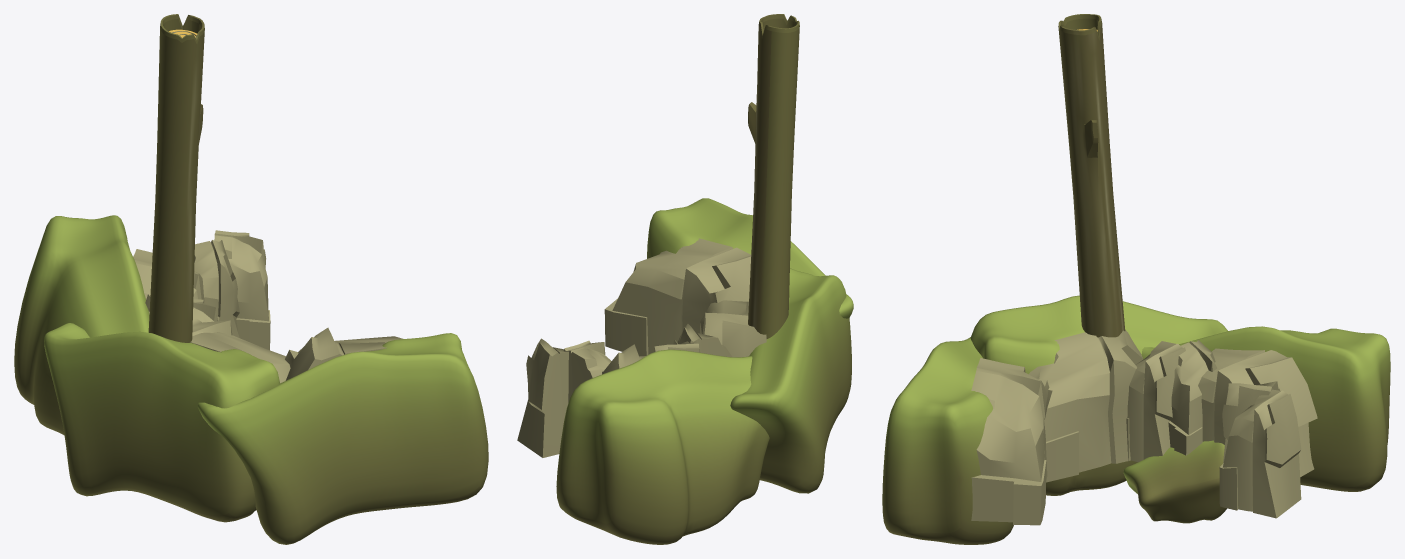
File: MountainSurroundings.glb
3 renders of one model, left to right at view 1: azimuth 30°, elevation 25°; view 2: azimuth 150°, elevation 25°; view 3: azimuth 270°, elevation 25°, orthographic. The views are drawn at different scales.
Visible parts, largest first — view 1: Cube.011, Cube.006, Cube.008, log, Cube.002, Cube.001, Cube.010, Cube.003, Cube.007; view 2: Cube.008, Cube.006, log, Cube.010, Cube.011, Cube.002, Cube.003, Cube.001, Cube.004, Cube.007; view 3: Cube.011, Cube.008, log, Cube.003, Cube.010, Cube.006, Cube.002, Cube.009, Cube.007, Cube.004, Cube.005, Cube.001.
Part boxes in pixels (x1,y1,x2,y2): Cube.011: (197, 333, 488, 544); Cube.006: (44, 323, 279, 522); Cube.008: (14, 215, 149, 434); log: (148, 14, 204, 342); Cube.002: (214, 230, 270, 350); Cube.001: (194, 240, 239, 337); Cube.010: (285, 327, 402, 380); Cube.003: (190, 318, 290, 383); Cube.007: (133, 249, 204, 313); Cube.008: (556, 349, 769, 544); Cube.006: (730, 268, 851, 493); log: (748, 14, 799, 338); Cube.010: (604, 238, 751, 356); Cube.011: (647, 198, 853, 318); Cube.002: (517, 338, 568, 457); Cube.003: (699, 300, 766, 357); Cube.001: (563, 340, 611, 402); Cube.004: (673, 324, 732, 357); Cube.007: (602, 344, 645, 374); Cube.011: (882, 337, 1013, 544); Cube.008: (1141, 326, 1390, 491); log: (1058, 14, 1125, 337); Cube.003: (1029, 330, 1143, 482); Cube.010: (971, 358, 1049, 525); Cube.006: (970, 295, 1227, 495); Cube.002: (1219, 389, 1301, 518); Cube.009: (1123, 440, 1226, 523); Cube.007: (1198, 348, 1317, 476); Cube.004: (1126, 341, 1185, 462); Cube.005: (1168, 340, 1217, 455); Cube.001: (1222, 381, 1279, 462).
Size of the model in its own units: 42.89 by 67.33 by 68.03.
3 materials, 3 textured.
